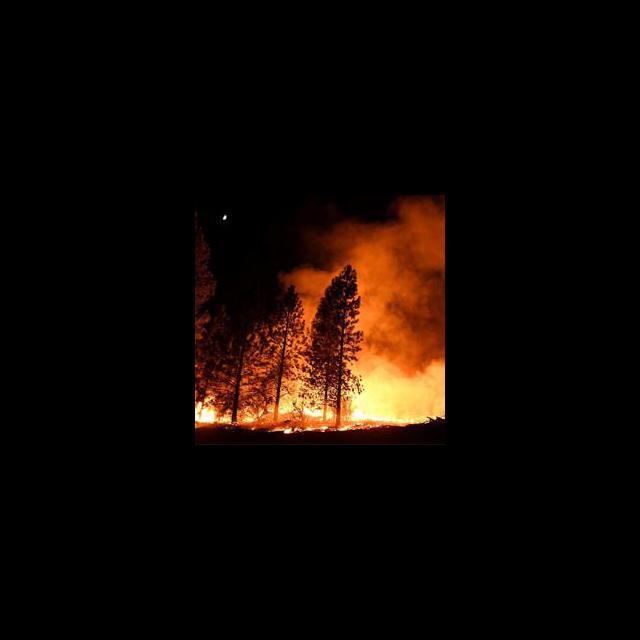Fire: (196, 396, 440, 434)
